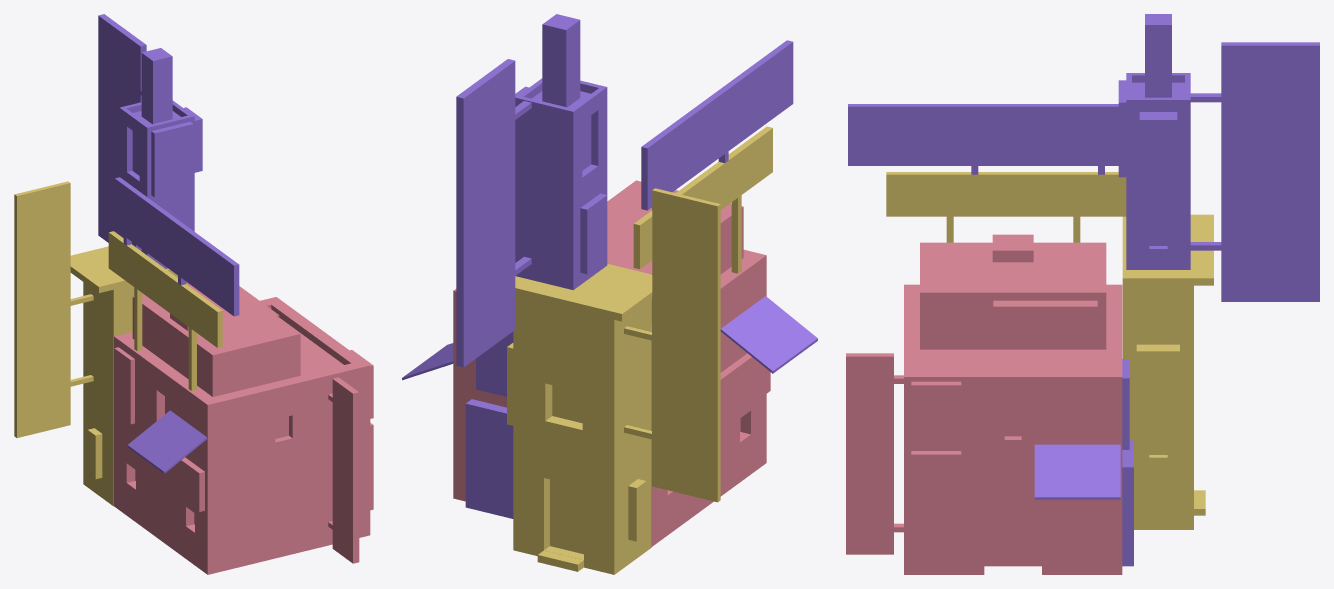
Rendered from 3.Credit_Building.fbx.
3 views of the same model, side by side, from view 1: azimuth 30°, elevation 25°; view 2: azimuth 150°, elevation 25°; view 3: azimuth 270°, elevation 25° (orthographic). The views are drawn at different scales.
Visible parts, largest first — view 1: L1_Credit_Building, L2_Credit_Building, L3_Credit_Building; view 2: L2_Credit_Building, L3_Credit_Building, L1_Credit_Building; view 3: L1_Credit_Building, L3_Credit_Building, L2_Credit_Building.
Part boxes in pixels (left/top/right/bottom): L1_Credit_Building: left=114, top=283, right=373, bottom=574; L2_Credit_Building: left=14, top=181, right=222, bottom=506; L3_Credit_Building: left=98, top=14, right=239, bottom=473; L2_Credit_Building: left=507, top=126, right=772, bottom=574; L3_Credit_Building: left=402, top=14, right=817, bottom=518; L1_Credit_Building: left=453, top=180, right=770, bottom=546; L1_Credit_Building: left=846, top=234, right=1122, bottom=574; L3_Credit_Building: left=848, top=14, right=1319, bottom=566; L2_Credit_Building: left=886, top=172, right=1213, bottom=529.
Bounding box in the file's own units: 347 × 502 × 434.
